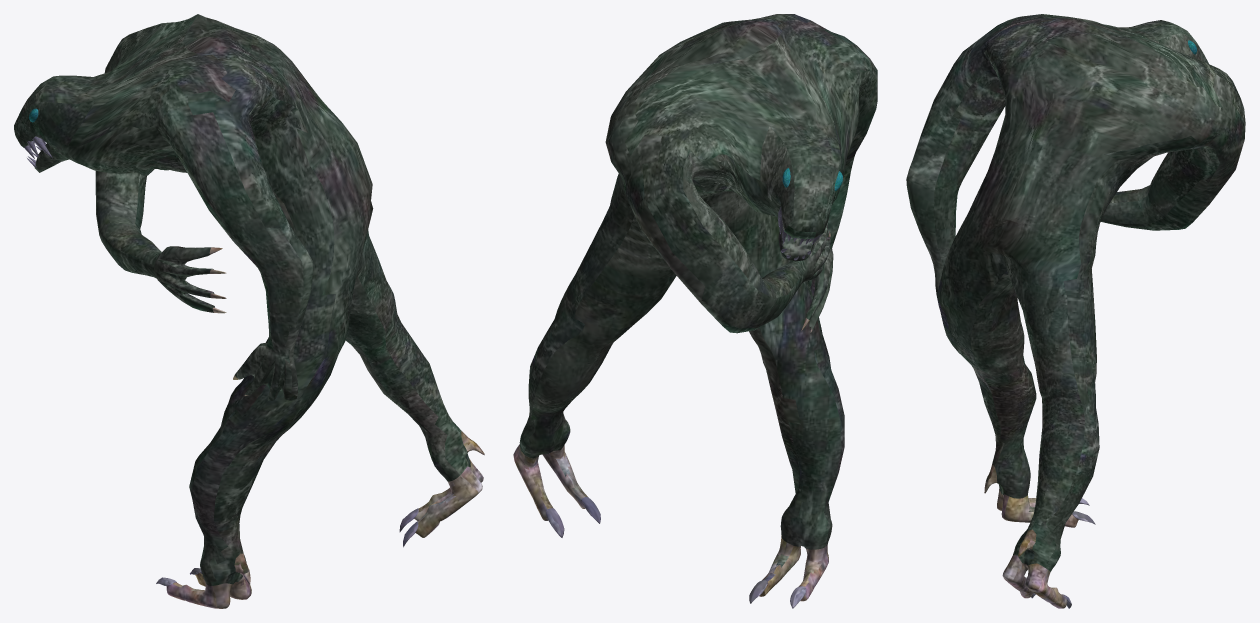
File: Aranar.0010.obj
3 renders of one model, left to right at view 1: azimuth 30°, elevation 25°; view 2: azimuth 150°, elevation 25°; view 3: azimuth 270°, elevation 25°, orthographic. The views are drawn at different scales.
Parts seen in each view (by area): view 1: polySurface28; view 2: polySurface28; view 3: polySurface28.
Part boxes in pixels (x1,y1,x2,y2): polySurface28: [14, 14, 484, 608]; polySurface28: [513, 14, 877, 608]; polySurface28: [906, 14, 1245, 608].
Bounding box in the file's own units: 1.51 × 2.05 × 1.24.
Materials: 4 (4 with a texture image).
